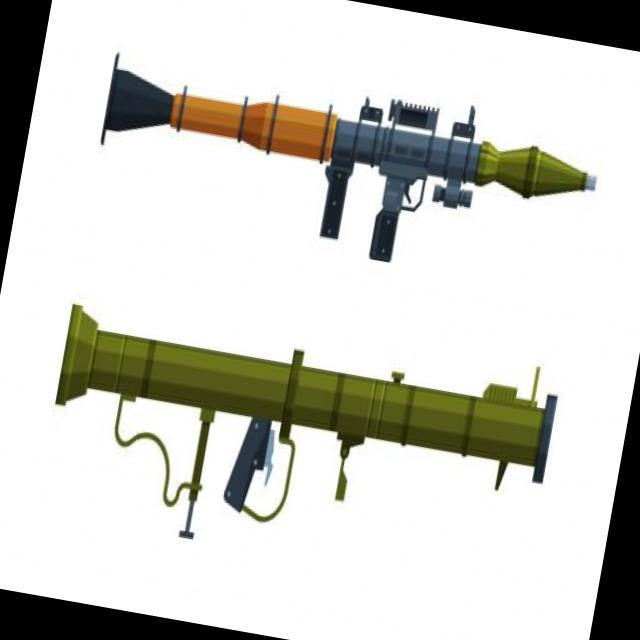rocket: (31, 297, 560, 594)
